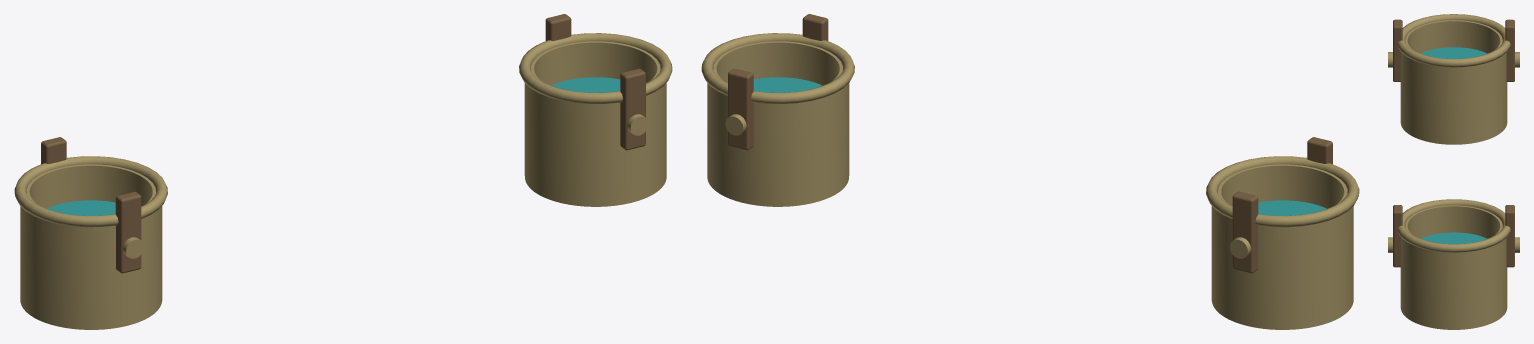
The model's file is water-clock-garden-and-hydraulic-puzzles-twin-receivin-3d7c9817__31938.glb.
3 renders of one model, left to right at view 1: azimuth 30°, elevation 25°; view 2: azimuth 150°, elevation 25°; view 3: azimuth 270°, elevation 25°, orthographic. The views are drawn at different scales.
Visible parts, largest first — view 1: twin-receiving-cups; view 2: twin-receiving-cups; view 3: twin-receiving-cups.
Part boxes in pixels (left/top/right/bottom): twin-receiving-cups: left=14, top=14, right=672, bottom=329; twin-receiving-cups: left=701, top=14, right=1359, bottom=329; twin-receiving-cups: left=1388, top=14, right=1519, bottom=329.
Size of the model in its own units: 1.97 by 0.39 by 0.4699.
